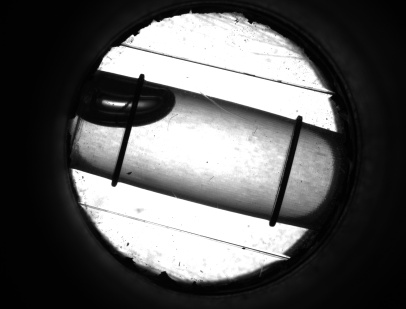line: (268, 133, 304, 206), (111, 134, 133, 168)
